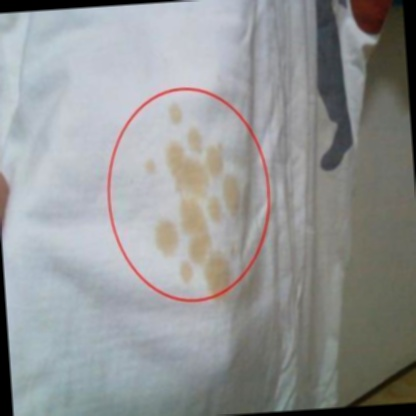coffee: (164, 142, 206, 196), (183, 200, 202, 232), (207, 262, 230, 287), (158, 223, 176, 253), (207, 144, 224, 174), (224, 178, 238, 211), (192, 236, 207, 260), (191, 132, 200, 150), (183, 265, 192, 280), (212, 201, 219, 218), (171, 105, 178, 121)
